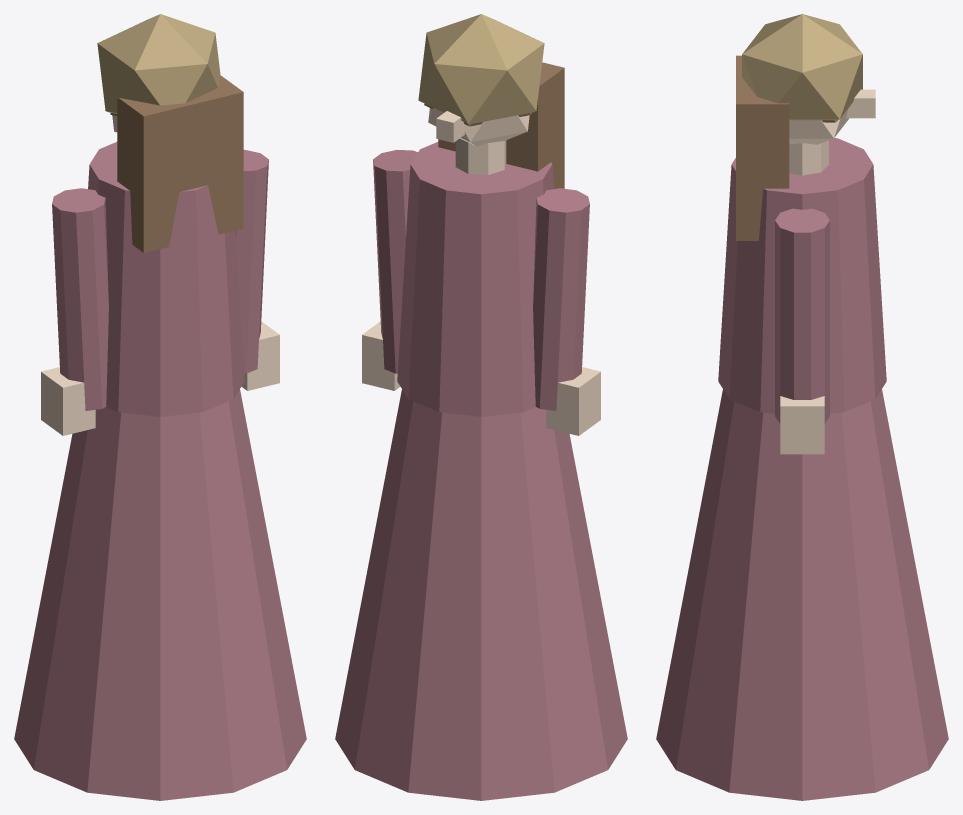
File: peasant_woman.glb
3 renders of one model, left to right at view 1: azimuth 30°, elevation 25°; view 2: azimuth 150°, elevation 25°; view 3: azimuth 270°, elevation 25°, orthographic.
Parts seen in each view (by area): view 1: peasant_woman; view 2: peasant_woman; view 3: peasant_woman.
Part boxes in pixels (bbox=[...]): peasant_woman: bbox=[14, 14, 306, 800]; peasant_woman: bbox=[335, 14, 627, 800]; peasant_woman: bbox=[656, 14, 948, 800].
Bounding box in the file's own units: 0.66 × 1.8 × 0.66.
